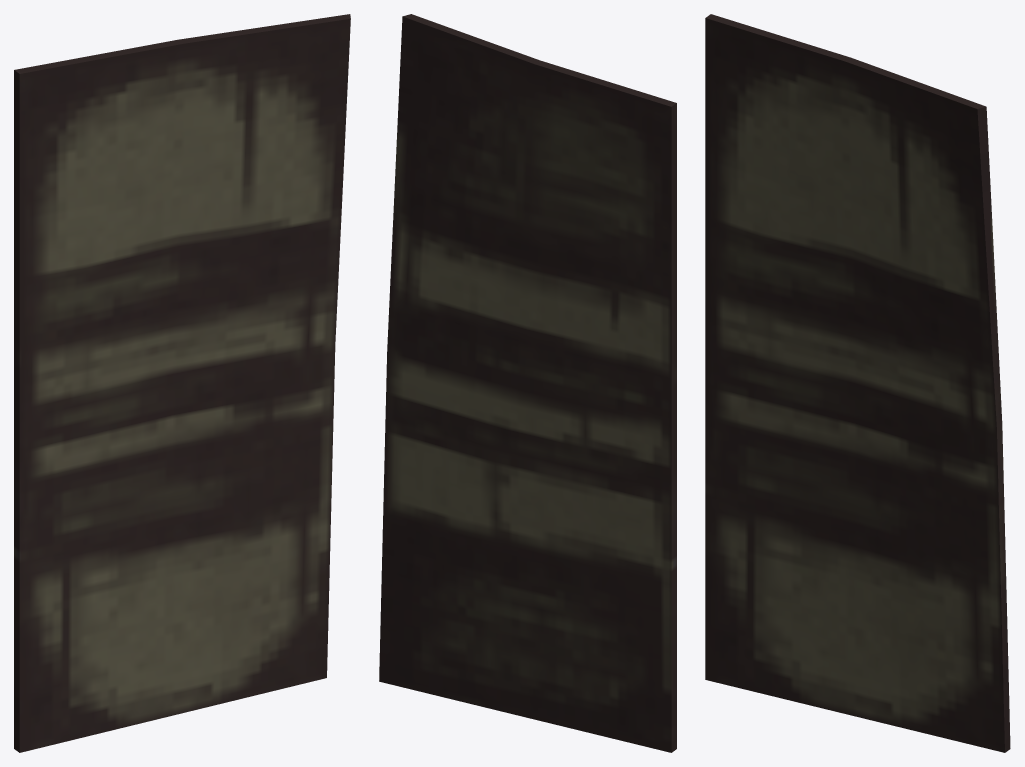
Rendered from storagecontainer2_d3.fbx.
The picture shows the model from 3 angles, left to right: view 1: azimuth 30°, elevation 25°; view 2: azimuth 150°, elevation 25°; view 3: azimuth 330°, elevation 25°; orthographic projection. The views are drawn at different scales.
Visible parts, largest first — view 1: sc2_door3; view 2: sc2_door3; view 3: sc2_door3.
Boxes of the visible parts, box(x1,y1,x2,y2) form: sc2_door3: box(14, 14, 350, 752); sc2_door3: box(379, 14, 676, 752); sc2_door3: box(705, 14, 1010, 752).
Size of the model in its own units: 3.2 by 6.71 by 0.5676.
